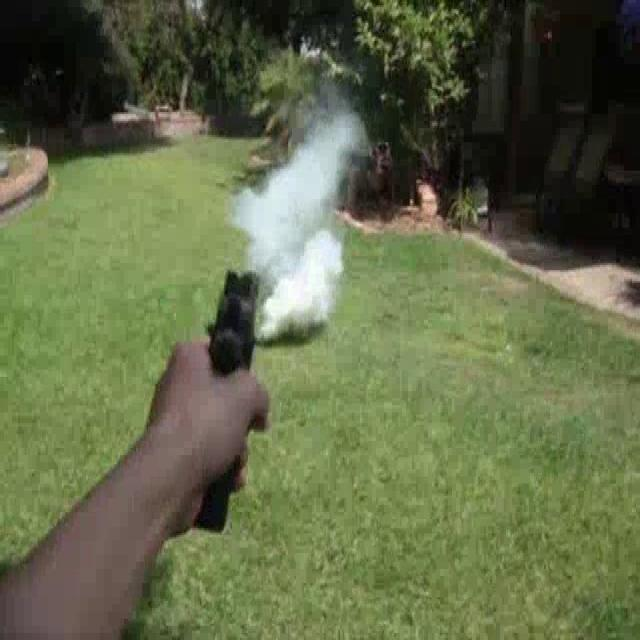Smoke: (230, 88, 372, 346)
